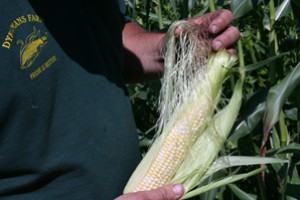corn: (123, 50, 235, 199)
